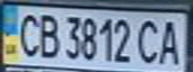1: (97, 15, 118, 62)
2: (112, 15, 136, 64)
3: (60, 12, 84, 61)
8: (78, 14, 100, 61)
A: (154, 16, 187, 66)
B: (33, 10, 60, 60)
C: (12, 9, 42, 58), (136, 16, 163, 65)
